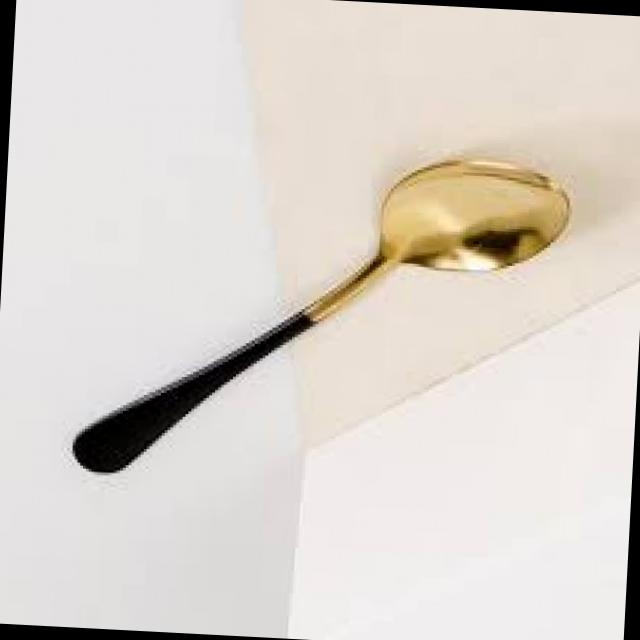spoon: (64, 117, 584, 514)
